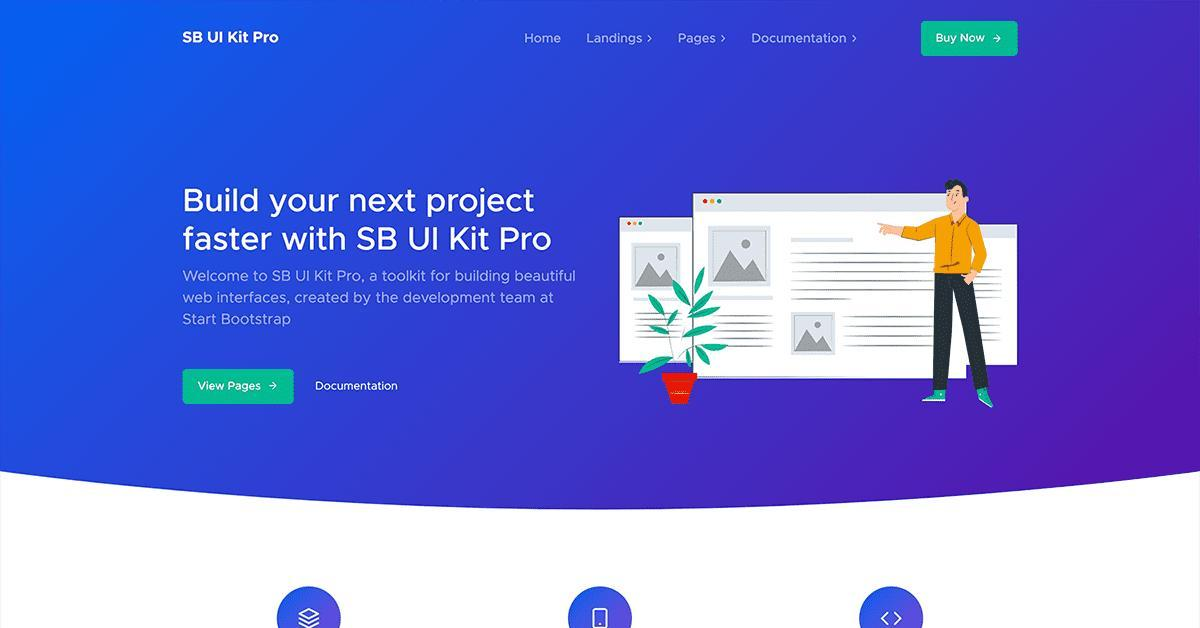button: (184, 369, 297, 406), (923, 20, 1018, 57), (312, 377, 408, 398)
label: (751, 31, 860, 50), (580, 31, 657, 50), (675, 30, 733, 48), (522, 32, 564, 48)
